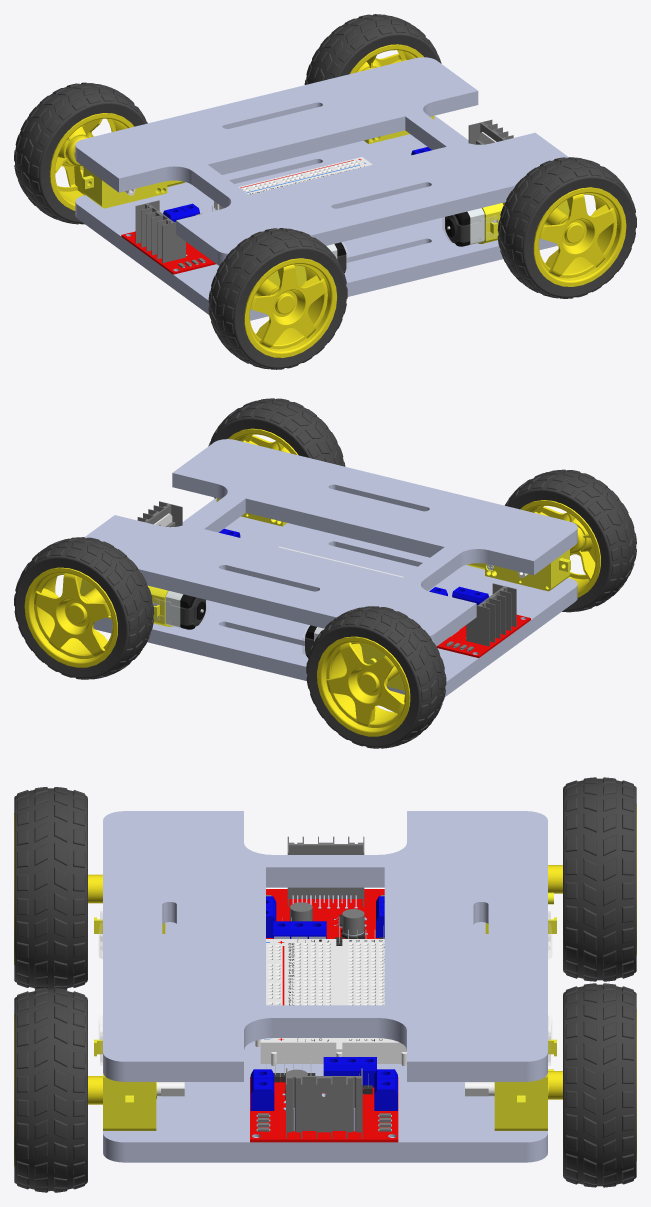
File: Assembly_for_robotic_car.glb
The picture shows the model from 3 angles, top to bottom: view 1: azimuth 30°, elevation 25°; view 2: azimuth 150°, elevation 25°; view 3: azimuth 270°, elevation 25°; orthographic projection. The views are drawn at different scales.
Parts seen in each view (by area): view 1: PRISM top component-2, PRISM base component-1, Wheel D65x25-3, Wheel D65x25-4, Wheel D65x25-2, Wheel D65x25-1, MotorDCTT-1 (×3), L298N-1, Half-Size Side Rail-2, L298N-2; view 2: PRISM top component-2, PRISM base component-1, Wheel D65x25-2, Wheel D65x25-1, Wheel D65x25-3, Wheel D65x25-4, MotorDCTT-1 (×3), L298N-1, L298N-2; view 3: PRISM top component-2, PRISM base component-1, Wheel D65x25-1, Wheel D65x25-2, Wheel D65x25-4, Wheel D65x25-3, L298N-2, Main Half-Size Board-1, L298N-1, MotorDCTT-1 (×2), Half-Size Side Rail-1.
Part boxes in pixels (x1,y1,x2,y2): PRISM top component-2: (75,57,568,265); PRISM base component-1: (75,116,557,320); Wheel D65x25-3: (208,228,347,369); Wheel D65x25-4: (497,157,636,298); Wheel D65x25-2: (14,82,147,224); Wheel D65x25-1: (304,14,441,84); MotorDCTT-1 (×3): (82,167,569,296); L298N-1: (121,200,216,274); Half-Size Side Rail-2: (214,157,370,210); L298N-2: (411,119,513,155); PRISM top component-2: (85,439,577,646); PRISM base component-1: (93,498,577,696); Wheel D65x25-2: (306,606,446,748); Wheel D65x25-1: (14,537,154,679); Wheel D65x25-3: (505,469,636,612); Wheel D65x25-4: (208,398,345,498); MotorDCTT-1 (×3): (80,549,570,690); L298N-1: (429,583,530,657); L298N-2: (137,501,240,537); PRISM top component-2: (103,811,547,1081); PRISM base component-1: (103,922,547,1162); Wheel D65x25-1: (548,983,636,1187); Wheel D65x25-2: (548,777,636,981); Wheel D65x25-4: (14,988,102,1192); Wheel D65x25-3: (14,787,102,989); L298N-2: (250,1057,398,1142); Main Half-Size Board-1: (287,939,391,1063); L298N-1: (266,836,384,945); MotorDCTT-1 (×2): (94,1015,556,1130); Half-Size Side Rail-1: (255,939,287,1065).
Size of the model in its own units: 0.2313 by 0.0718 by 0.21.
